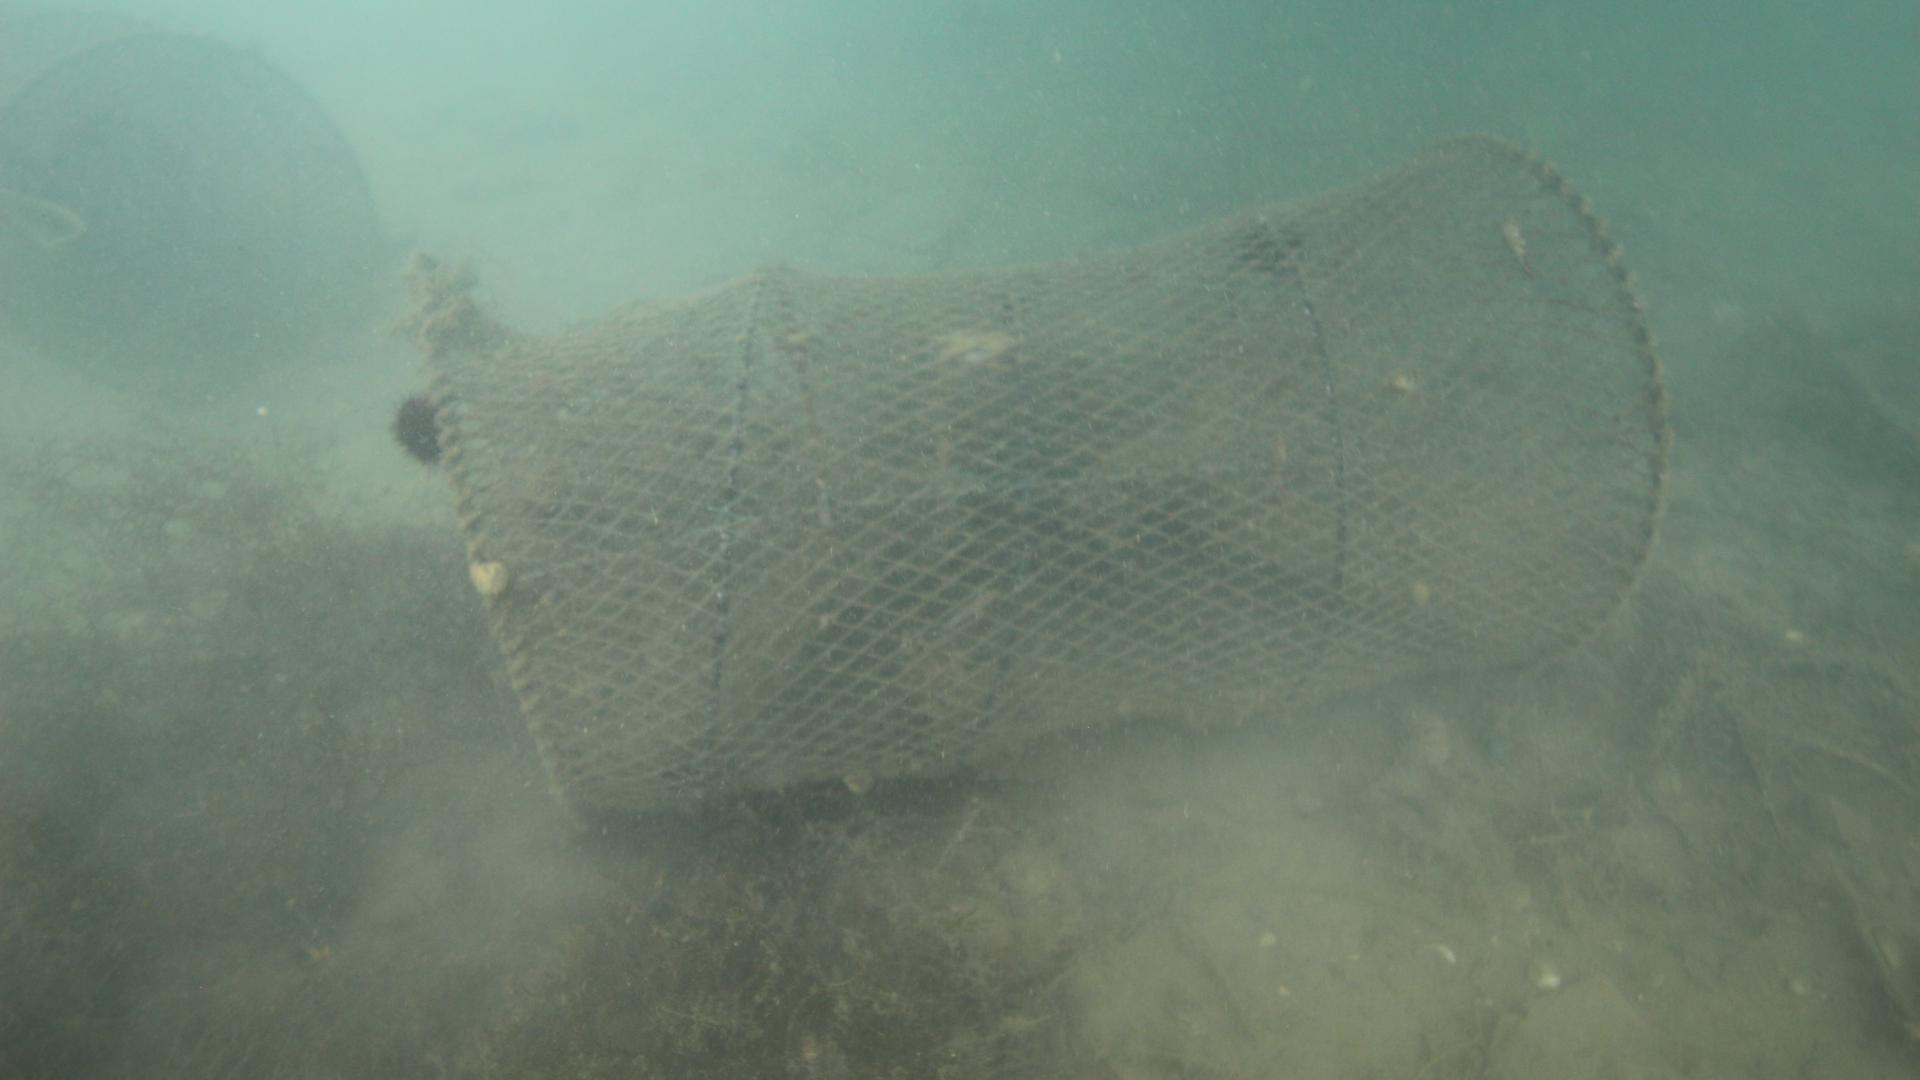spring fish trap: (405, 131, 1671, 845)
